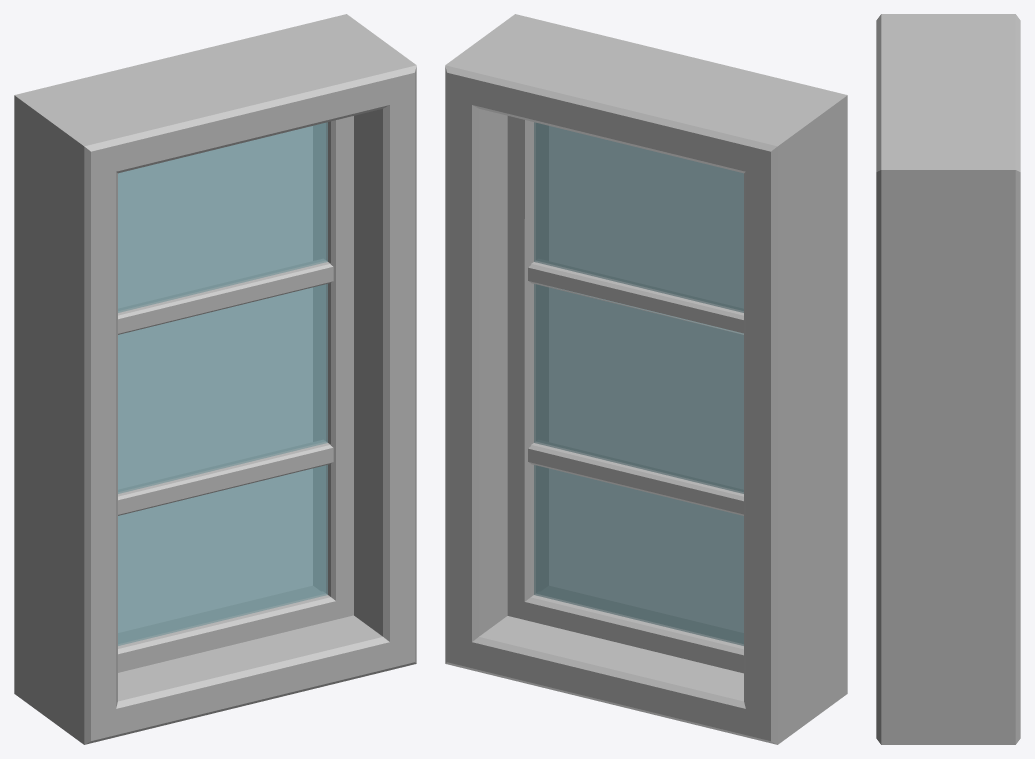
File: LivingRoomWin06.FBX
3 views of the same model, side by side, from view 1: azimuth 30°, elevation 25°; view 2: azimuth 150°, elevation 25°; view 3: azimuth 270°, elevation 25° (orthographic). The views are drawn at different scales.
Visible parts, largest first — view 1: LivingRoomWin06; view 2: LivingRoomWin06; view 3: LivingRoomWin06.
Part boxes in pixels (x1,y1,x2,y2): LivingRoomWin06: (14, 14, 416, 744); LivingRoomWin06: (445, 14, 847, 744); LivingRoomWin06: (876, 14, 1020, 744).
Bounding box in the file's own units: 79.01 × 30.88 × 136.
